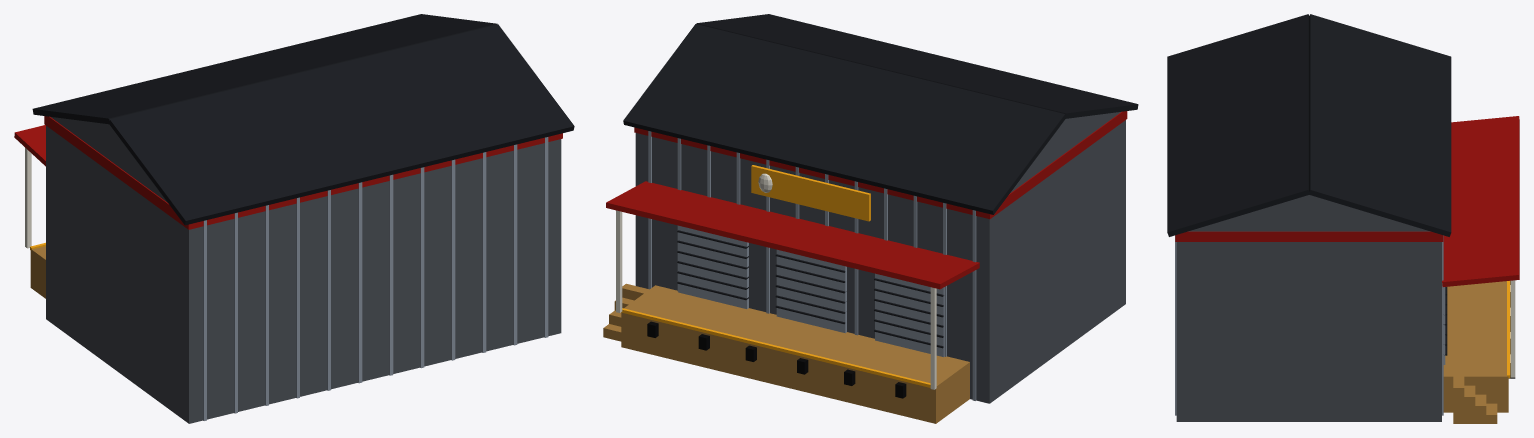
The model's file is Warehouse.obj.
3 views of the same model, side by side, from view 1: azimuth 30°, elevation 25°; view 2: azimuth 150°, elevation 25°; view 3: azimuth 270°, elevation 25° (orthographic). The views are drawn at different scales.
Visible parts, largest first — view 1: Warehouse; view 2: Warehouse; view 3: Warehouse.
Boxes of the visible parts, x1=… form: Warehouse: x1=14, y1=14, x2=574, y2=423; Warehouse: x1=603, y1=14, x2=1138, y2=423; Warehouse: x1=1167, y1=14, x2=1519, y2=423.
Bounding box in the file's own units: 10.53 × 6.59 × 8.92.
